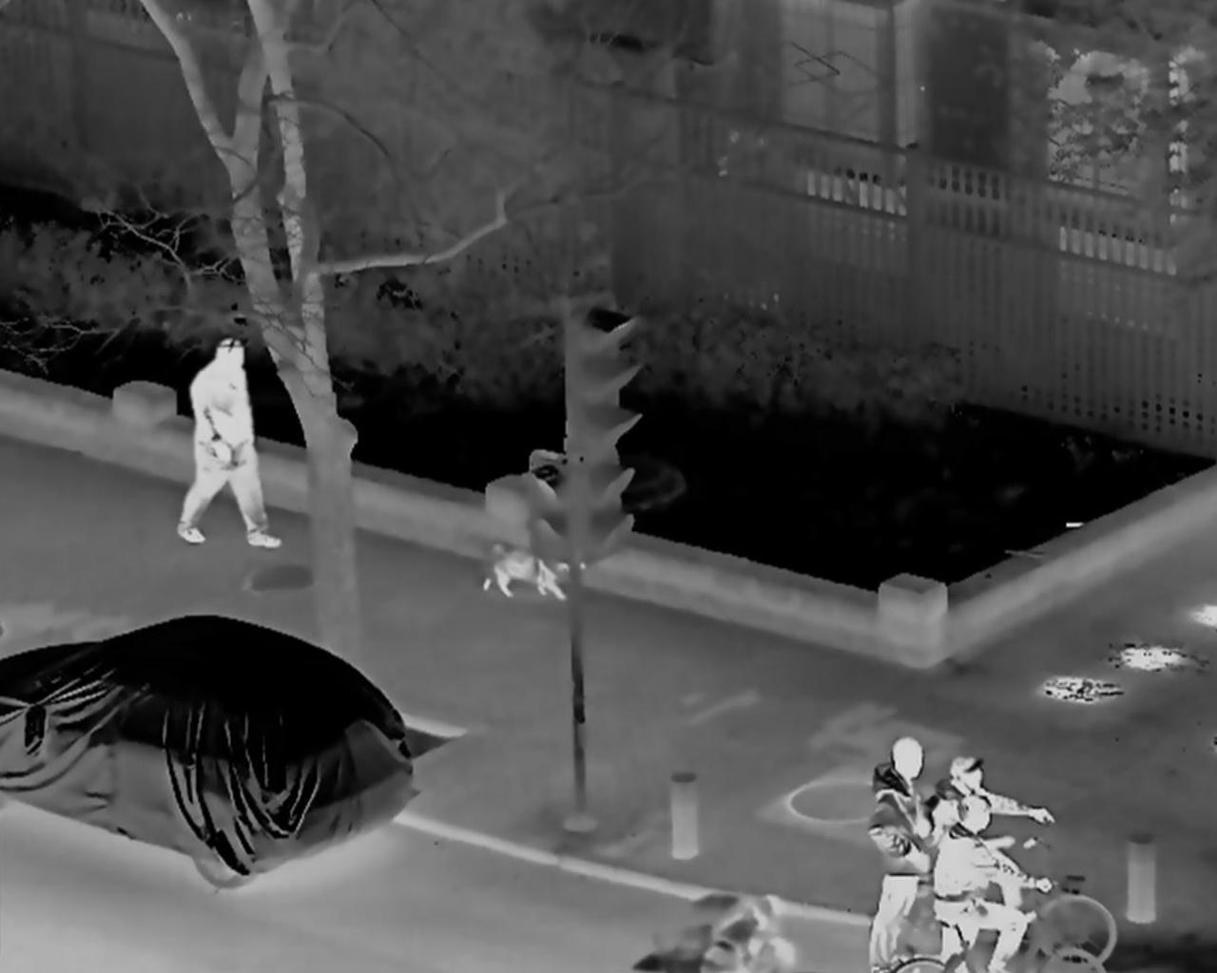person: (169, 337, 280, 558), (925, 798, 1053, 973), (918, 754, 1041, 919), (845, 735, 930, 973)
